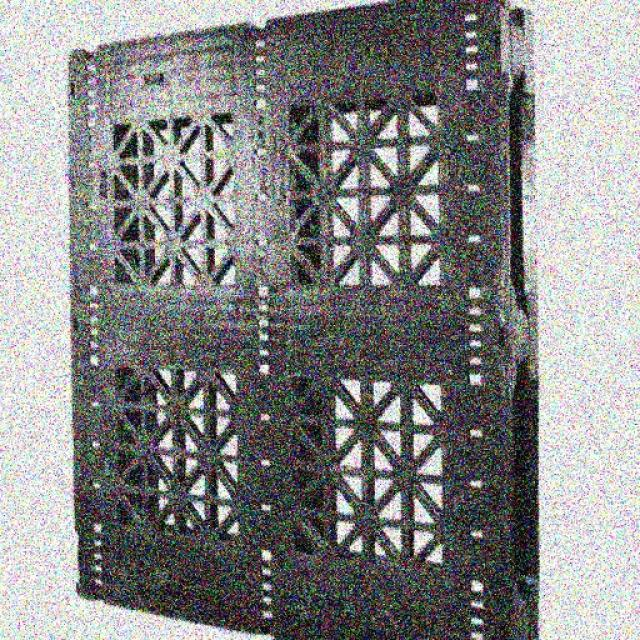non-igps: (62, 0, 542, 640)
